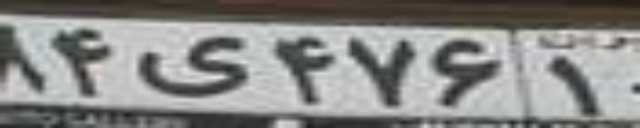0: (618, 80, 639, 97)
1: (543, 52, 601, 114)
4: (272, 34, 333, 104), (50, 26, 108, 98)
6: (429, 37, 504, 109)
7: (347, 34, 415, 107)
8: (0, 26, 45, 92)
he: (133, 35, 251, 99)
